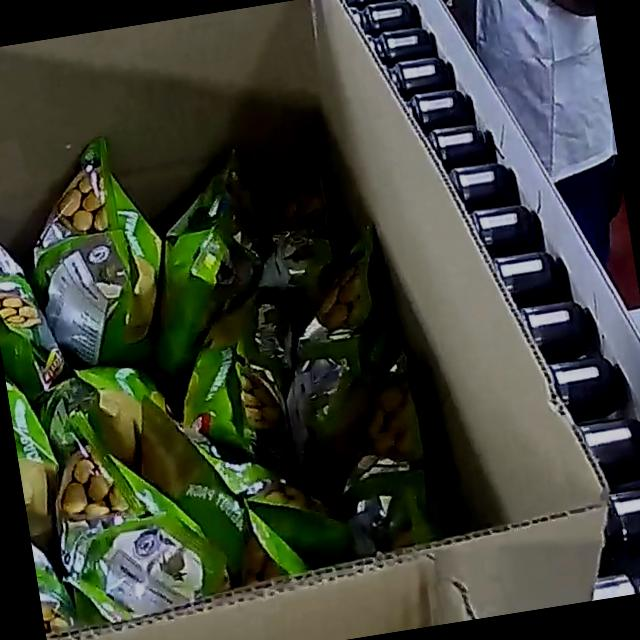yogurt: (0, 92, 449, 640)
